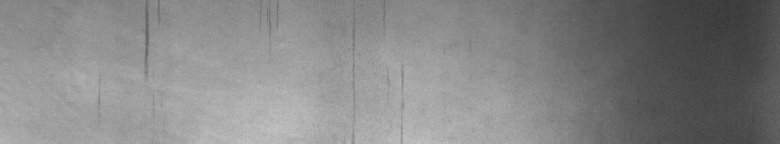ka: (98, 4, 161, 106)
